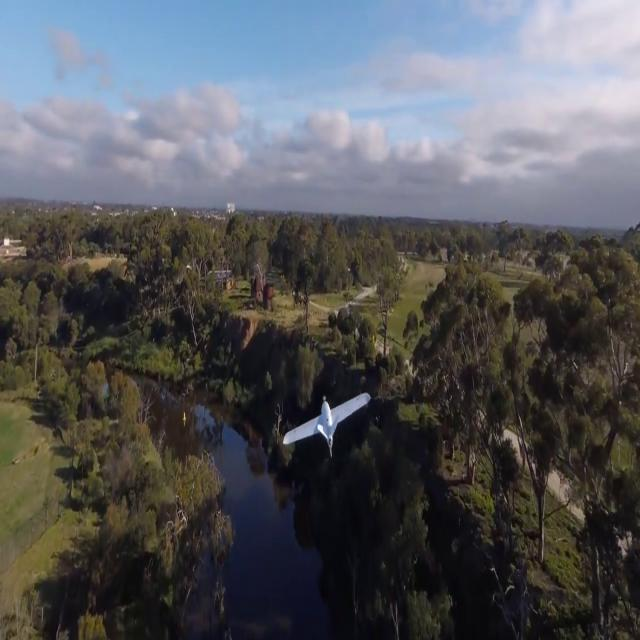iha: (315, 396, 337, 450)
